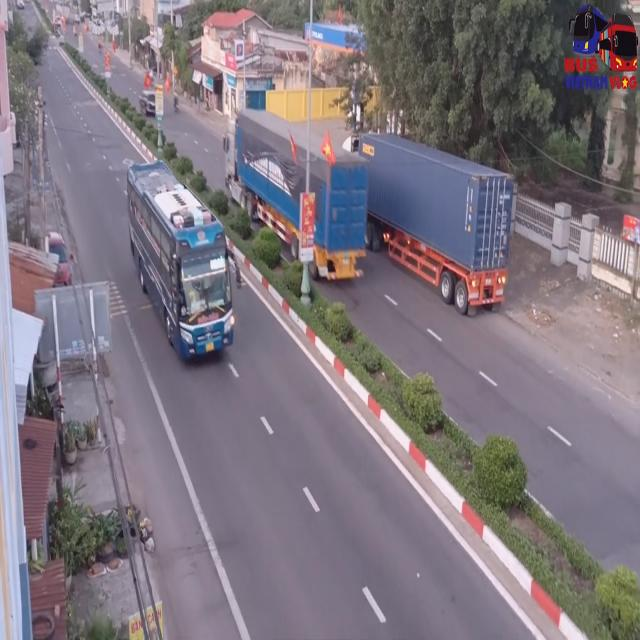bus: (126, 163, 237, 365)
truck: (225, 87, 374, 290), (360, 134, 513, 324)
